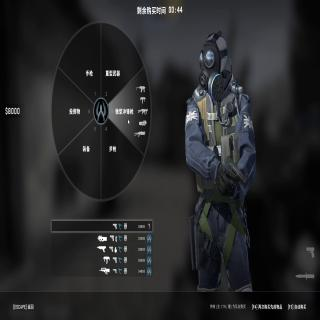CT-Body: (185, 29, 255, 294)
CT-Head: (198, 33, 228, 84)
